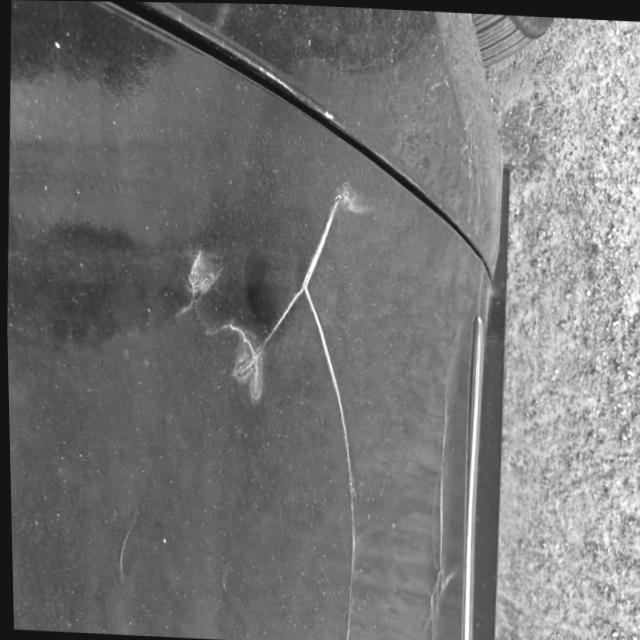Paint-Crack: (208, 181, 362, 640), (421, 385, 461, 640)
